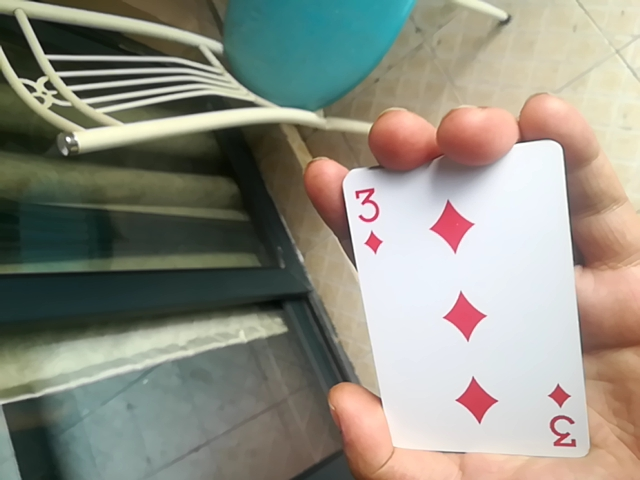fk 3: (344, 142, 592, 463)
